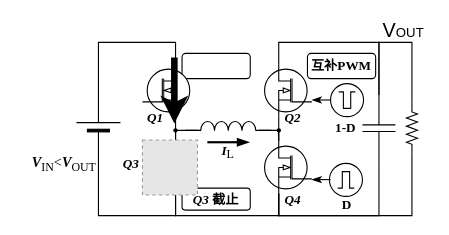
Some shapes in this 449 by 235 pixel diagram are drawn without their labels. Grey dashed boxes stand in for pictures. Here are the shapes that lost their labels. From the top down, the box of each, then its label:
(181, 52, 250, 79): Q1 导通
(75, 92, 120, 159): V IN
